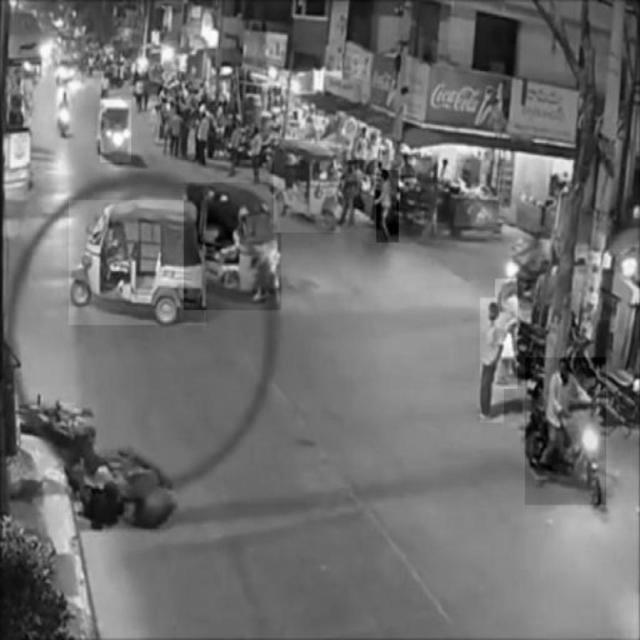person: (480, 298, 504, 422), (496, 279, 518, 389), (377, 170, 399, 242)
vehicle: (69, 200, 206, 324), (184, 182, 282, 310), (525, 358, 606, 505), (274, 142, 340, 233), (101, 101, 131, 163)
